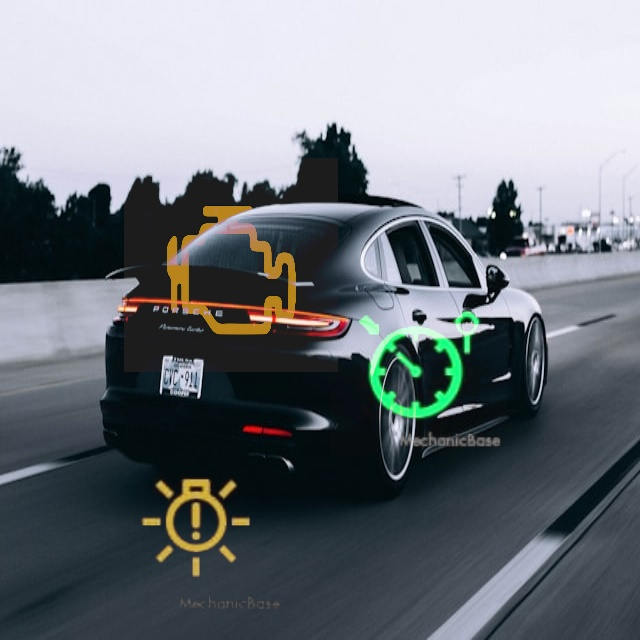symbol: (124, 158, 338, 372), (109, 440, 287, 618), (330, 278, 507, 455)
